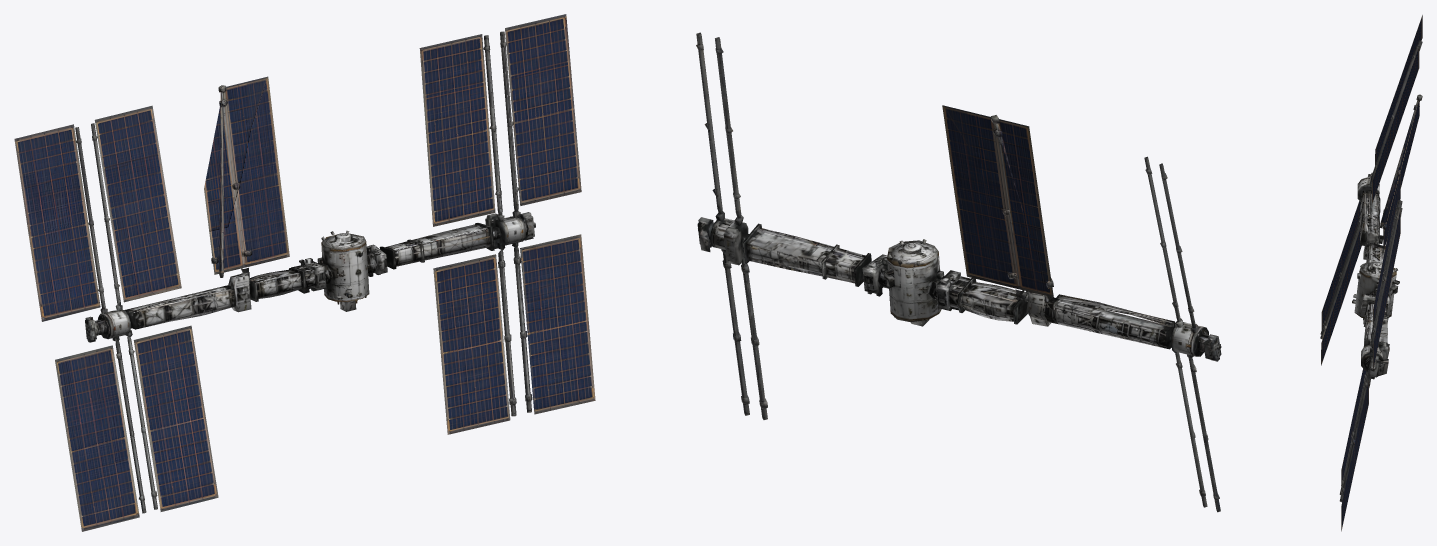
File: satellite.glb
3 renders of one model, left to right at view 1: azimuth 30°, elevation 25°; view 2: azimuth 150°, elevation 25°; view 3: azimuth 270°, elevation 25°, orthographic. The views are drawn at different scales.
Visible parts, largest first — view 1: b7a7371d_6e56_4f4c_ba76_e4aaa7ced13e; view 2: b7a7371d_6e56_4f4c_ba76_e4aaa7ced13e; view 3: b7a7371d_6e56_4f4c_ba76_e4aaa7ced13e.
Boxes of the visible parts, x1,y1,x2,y2 form: b7a7371d_6e56_4f4c_ba76_e4aaa7ced13e: (14,14,595,531); b7a7371d_6e56_4f4c_ba76_e4aaa7ced13e: (696,32,1221,512); b7a7371d_6e56_4f4c_ba76_e4aaa7ced13e: (1320,15,1422,531).
Bounding box in the file's own units: 0.9995 × 0.6392 × 0.1958.
1 material, 1 textured.
